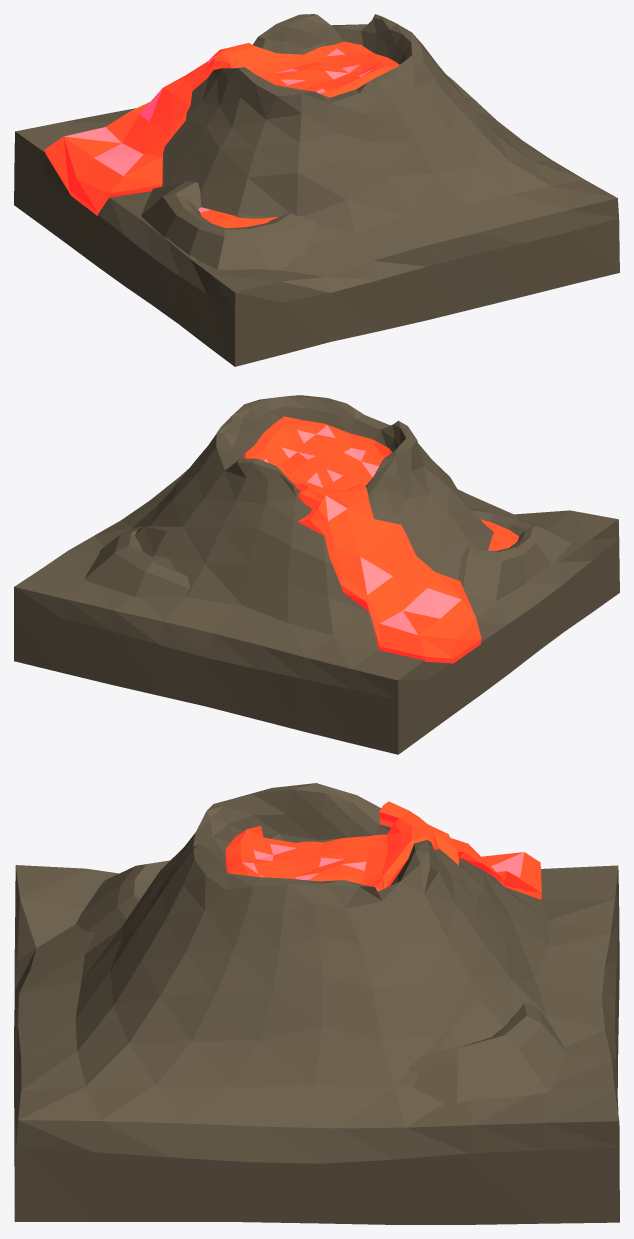
Rendered from MO_Ground_3.fbx.
3 renders of one model, top to bottom at view 1: azimuth 30°, elevation 25°; view 2: azimuth 150°, elevation 25°; view 3: azimuth 270°, elevation 25°, orthographic. The views are drawn at different scales.
Visible parts, largest first — view 1: ground3; view 2: ground3; view 3: ground3.
Part boxes in pixels (box(x1,y1,x2,y2)): ground3: box(14, 14, 619, 366); ground3: box(14, 395, 619, 754); ground3: box(14, 783, 619, 1224).
Size of the model in its own units: 171 by 82.15 by 169.
